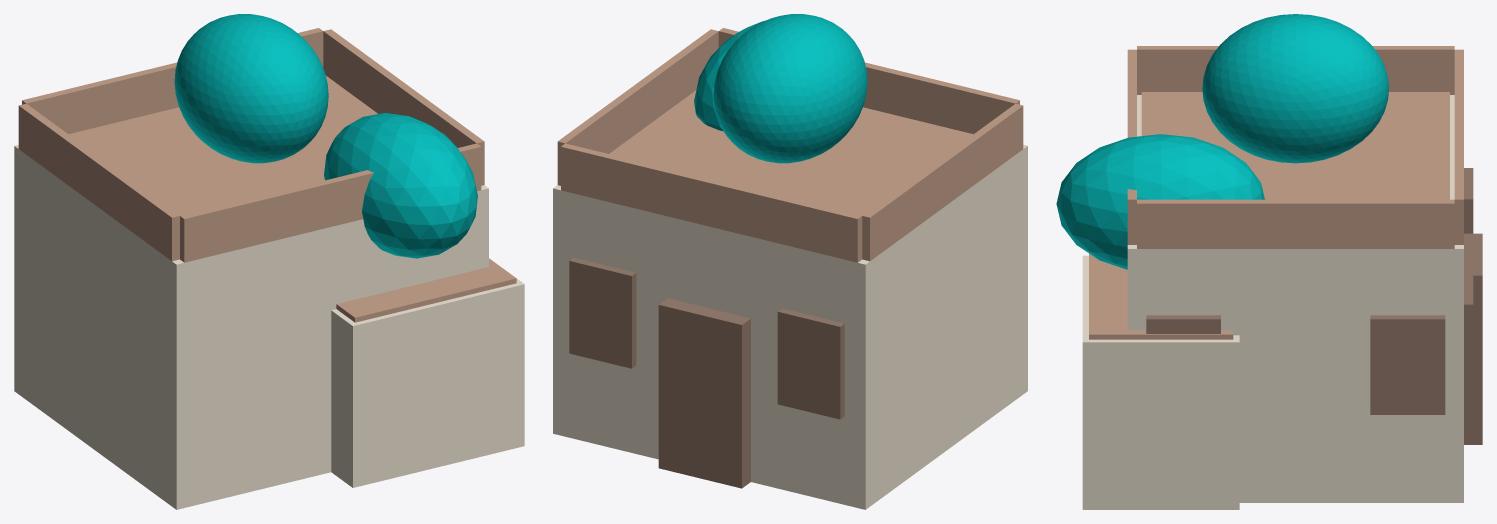
File: persian-house-compact.glb
3 renders of one model, left to right at view 1: azimuth 30°, elevation 25°; view 2: azimuth 150°, elevation 25°; view 3: azimuth 270°, elevation 25°, orthographic. The views are drawn at different scales.
Visible parts, largest first — view 1: Persian_House_Compact; view 2: Persian_House_Compact; view 3: Persian_House_Compact.
Part boxes in pixels (x1,y1,x2,y2): Persian_House_Compact: (14,14,524,509); Persian_House_Compact: (553,14,1027,509); Persian_House_Compact: (1056,14,1482,509).
Bounding box in the file's own units: 6.27 × 7.14 × 6.84.
